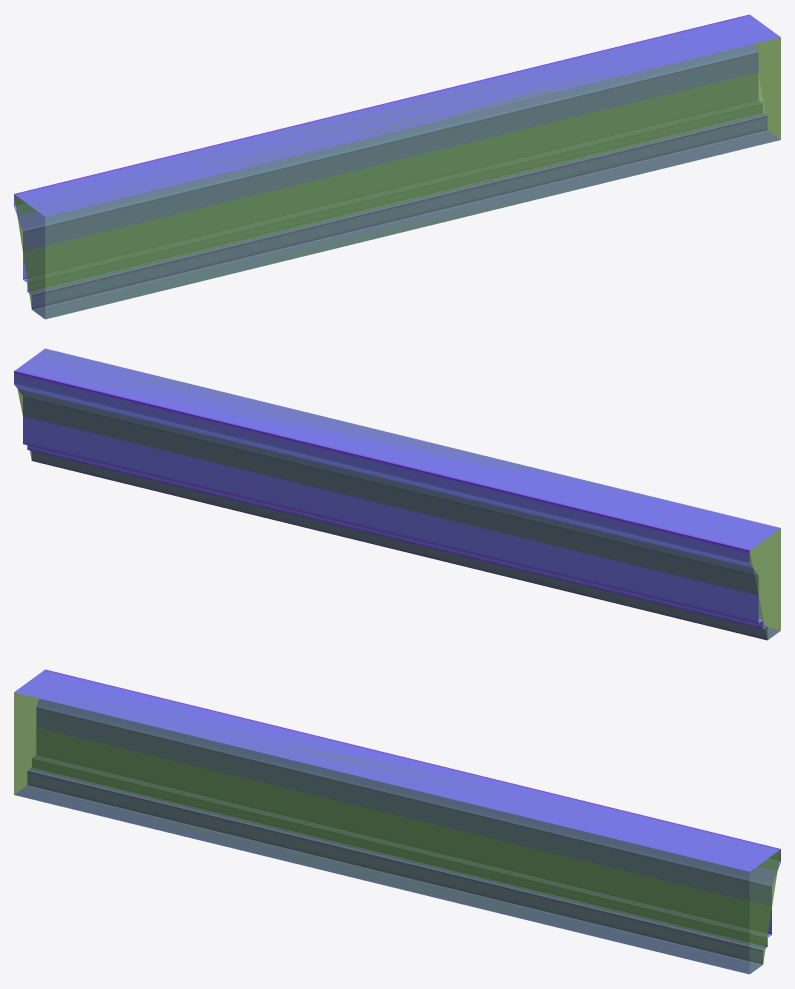
The model's file is F_md_TrimH_3m_04.fbx.
3 renders of one model, top to bottom at view 1: azimuth 30°, elevation 25°; view 2: azimuth 150°, elevation 25°; view 3: azimuth 330°, elevation 25°, orthographic.
Visible parts, largest first — view 1: F_md_TrimH_3m_04_LOD0, F_md_TrimH_3m_04_col_01; view 2: F_md_TrimH_3m_04_LOD0, F_md_TrimH_3m_04_col_01; view 3: F_md_TrimH_3m_04_LOD0, F_md_TrimH_3m_04_col_01.
Boxes of the visible parts, bbox=[...] form: F_md_TrimH_3m_04_LOD0: bbox=[14, 14, 780, 319]; F_md_TrimH_3m_04_col_01: bbox=[14, 37, 780, 319]; F_md_TrimH_3m_04_LOD0: bbox=[14, 348, 780, 640]; F_md_TrimH_3m_04_col_01: bbox=[17, 349, 780, 640]; F_md_TrimH_3m_04_LOD0: bbox=[14, 669, 780, 974]; F_md_TrimH_3m_04_col_01: bbox=[14, 691, 780, 974].
Size of what is drawn, in the model's own units: 300 by 40 by 22.04.
